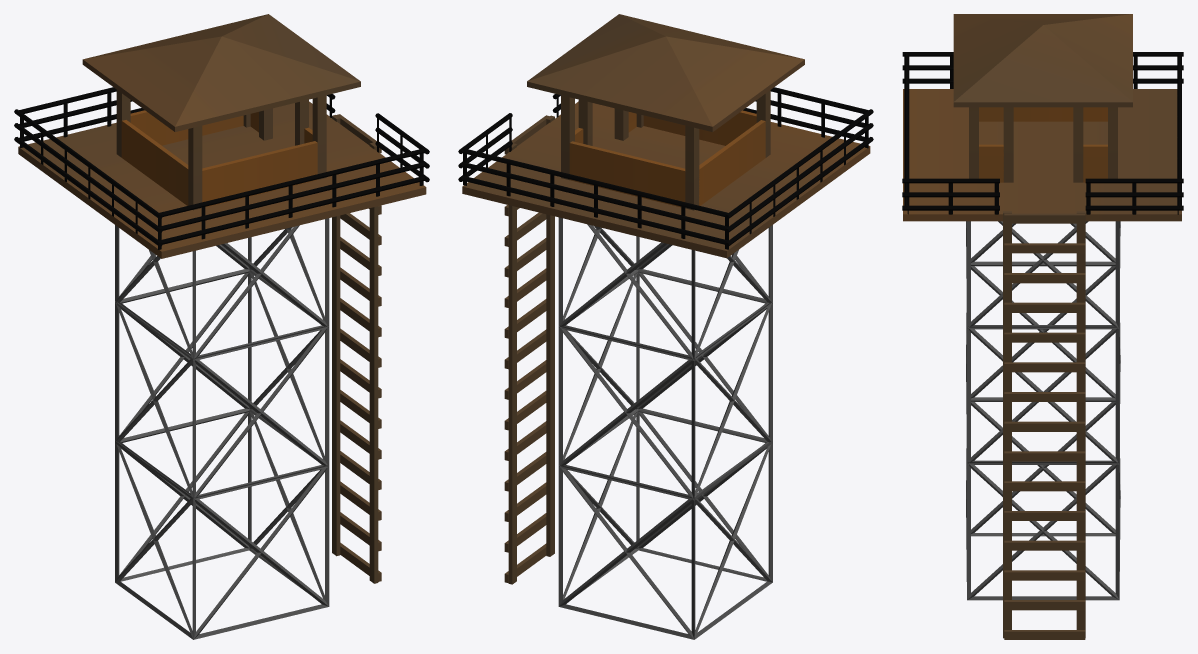
The model's file is TA-Sm-WatchTower.fbx.
The picture shows the model from 3 angles, left to right: view 1: azimuth 30°, elevation 25°; view 2: azimuth 150°, elevation 25°; view 3: azimuth 270°, elevation 25°; orthographic projection. The views are drawn at different scales.
Parts seen in each view (by area): view 1: atalaya; view 2: atalaya; view 3: atalaya.
Boxes of the visible parts, left/top/right/bottom form: atalaya: left=14, top=14, right=429, bottom=639; atalaya: left=458, top=14, right=873, bottom=639; atalaya: left=902, top=14, right=1183, bottom=639.
Size of the model in its own units: 6.2 by 12.14 by 5.65.
Materials: 1 (1 with a texture image).
